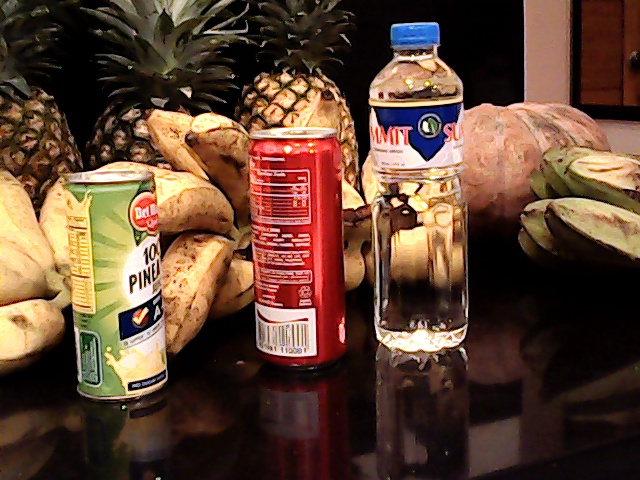Cola: (229, 115, 366, 367)
Pine Juice: (59, 160, 173, 400)
Summit Water: (366, 16, 476, 370)
